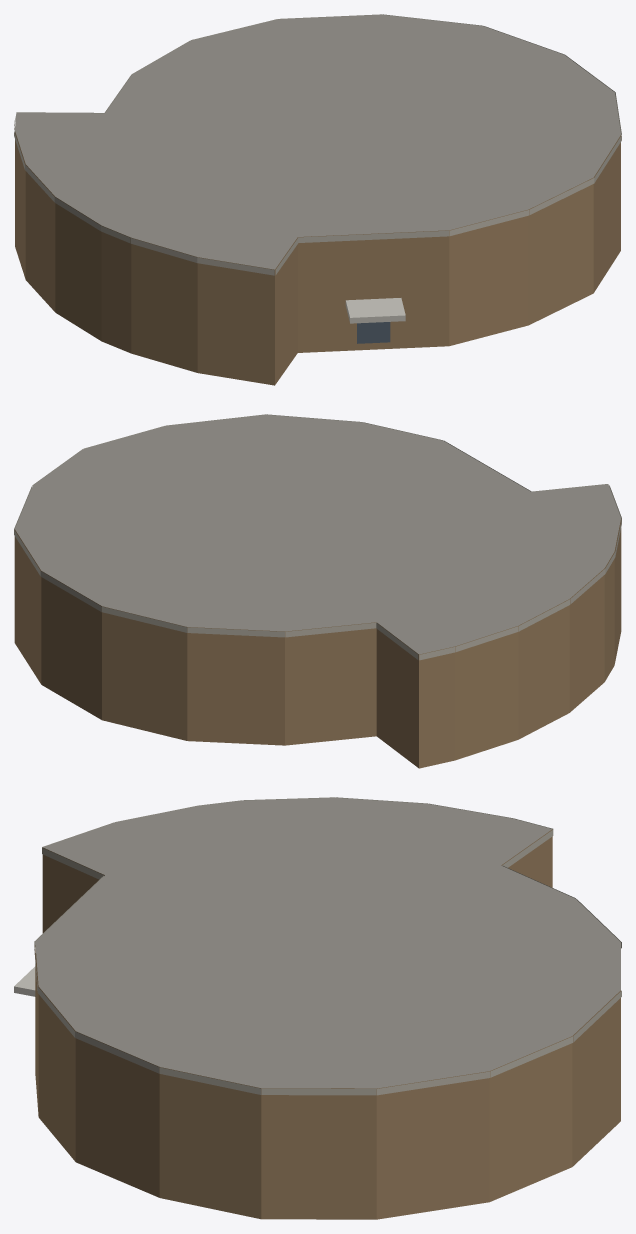
The model's file is ua-cinema-150.glb.
3 views of the same model, one above another, from view 1: azimuth 30°, elevation 25°; view 2: azimuth 150°, elevation 25°; view 3: azimuth 270°, elevation 25° (orthographic). The views are drawn at different scales.
Parts seen in each view (by area): view 1: ua_cinema_150; view 2: ua_cinema_150; view 3: ua_cinema_150.
Boxes of the visible parts, x1=… form: ua_cinema_150: x1=14, y1=14, x2=621, y2=385; ua_cinema_150: x1=14, y1=414, x2=621, y2=768; ua_cinema_150: x1=14, y1=797, x2=621, y2=1219.
Size of the model in its own units: 43.6 by 9.14 by 38.41.
